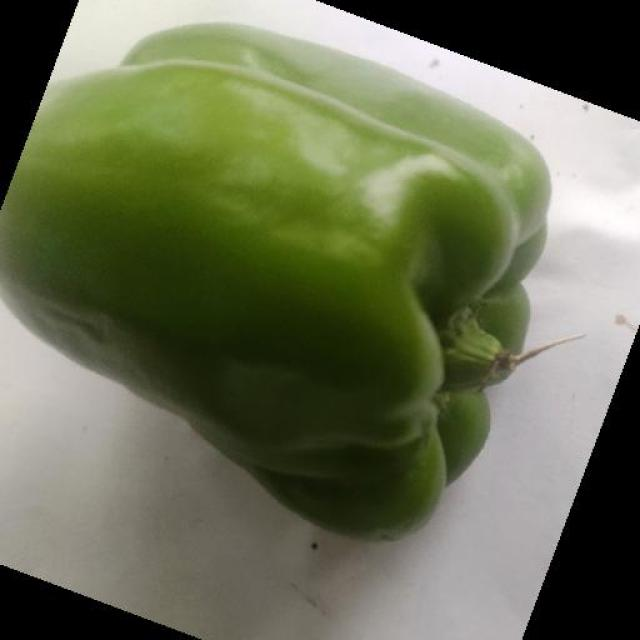Fresh_Capsicum: (86, 7, 556, 600)
